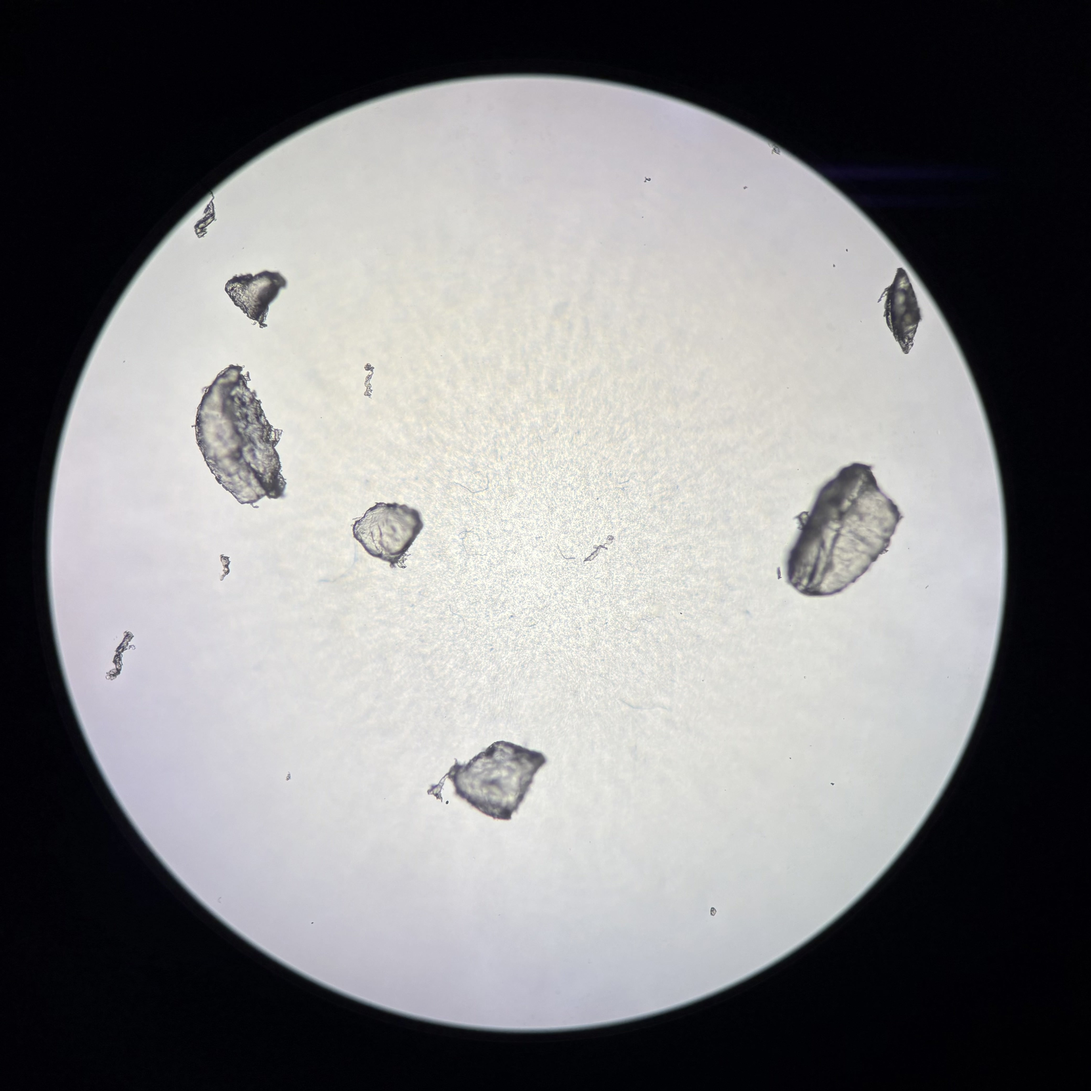microplastic: (777, 462, 902, 597), (191, 364, 289, 509), (426, 739, 547, 821), (350, 502, 426, 572), (877, 267, 922, 355), (223, 270, 288, 329), (105, 630, 136, 682), (193, 190, 217, 239), (364, 363, 375, 401), (218, 553, 231, 582), (710, 907, 718, 917)
